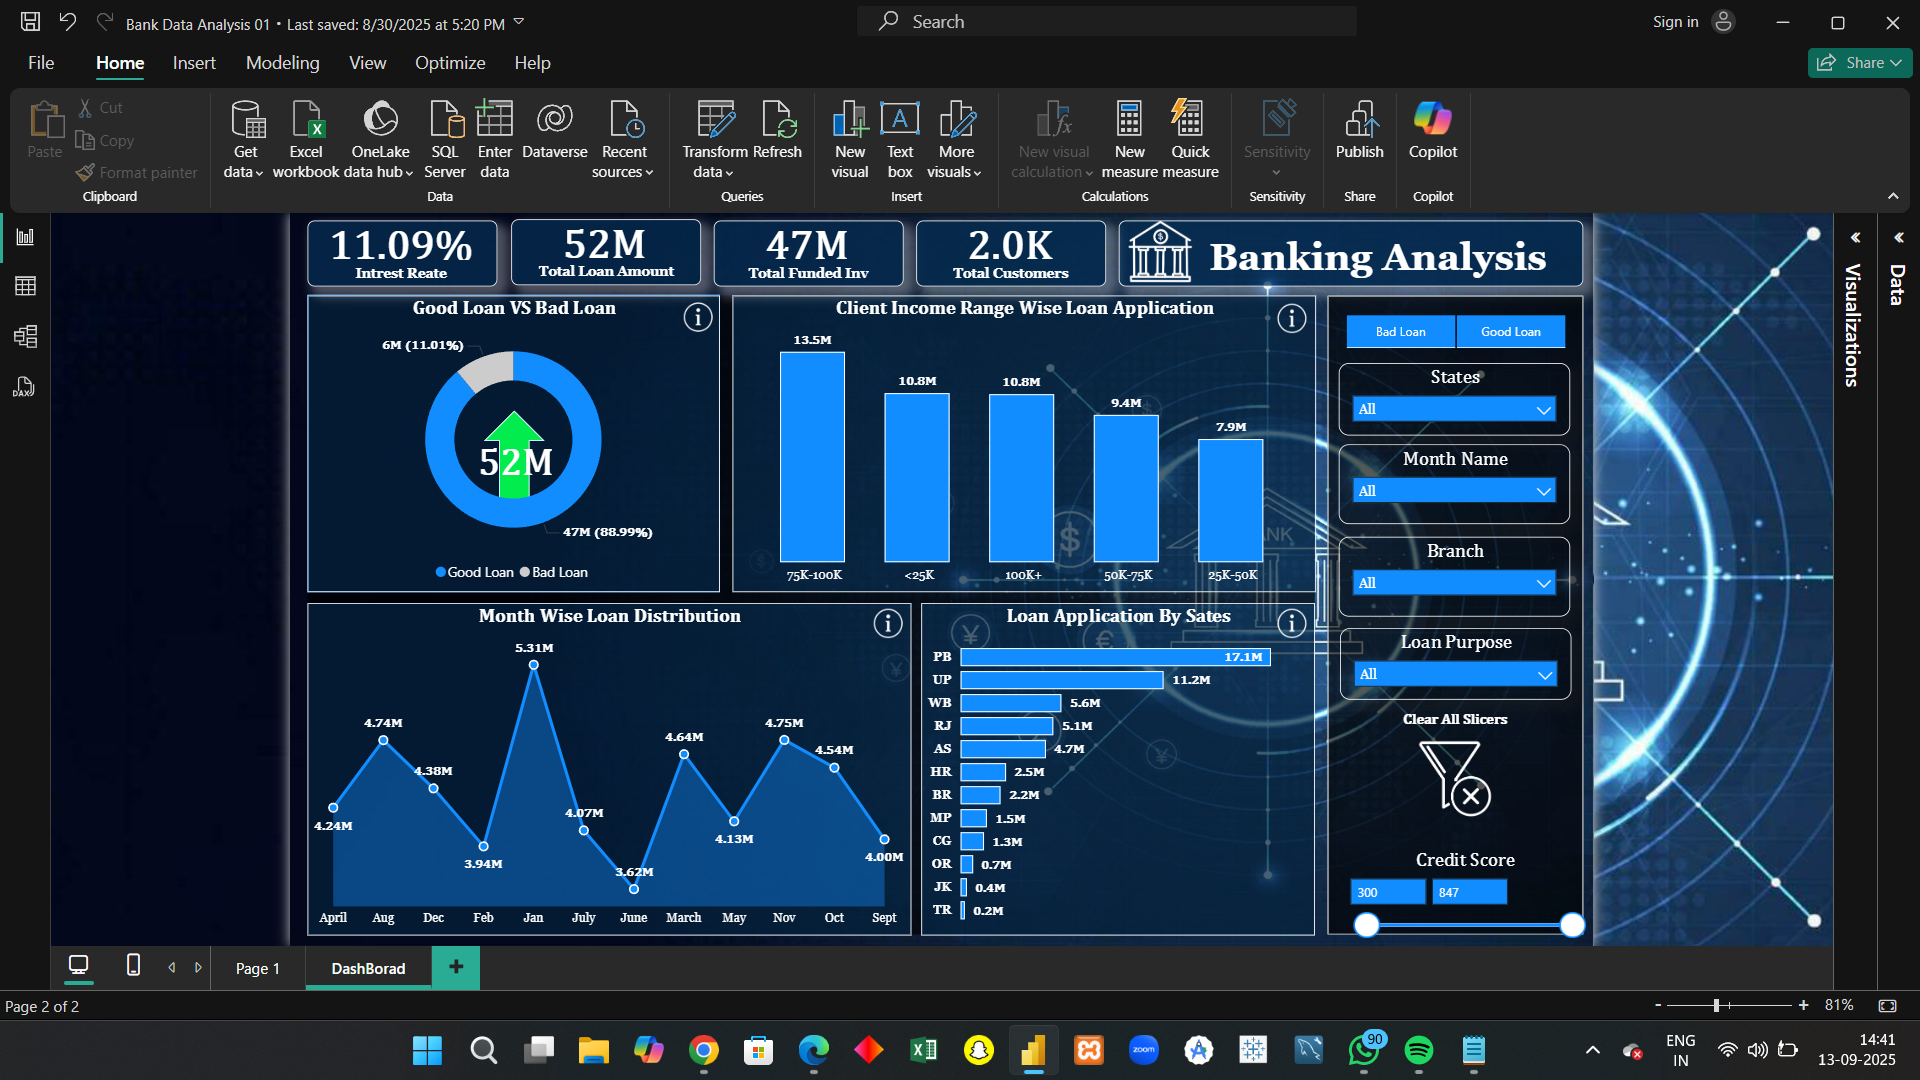

What the dashboard file says about the page in this screenshot:
{"tool":"powerbi","page":{"name":"DashBorad","canvas":[1280,720],"ordinal":1},"visuals":[{"type":"shape","box":[813.5,7.2,456.2,65],"z":0},{"type":"shape","box":[190,193.8,60,111.2],"z":0,"group":"g1"},{"type":"shape","box":[17.5,80,405,292.5],"z":1000,"group":"g1"},{"type":"shape","box":[17.5,81.2,988.8,627.5],"z":1000},{"type":"group","id":"g1","title":"Good Loan Chart","box":[17.5,80,405,292.5],"z":2000},{"type":"donutChart","title":"Good Loan VS Bad Loan ","fields":{"Category":["Table1.Good Vs Bad Loan"],"Y":["Sum(Table1.Loan Amount)"]},"box":[17.5,81.2,405,291.2],"z":2000,"group":"g1"},{"type":"card","fields":{"Values":["Sum(Table1.Loan Amount)"]},"box":[155,202.5,135,81.2],"z":3000,"group":"g1"},{"type":"areaChart","title":"Month Wise Loan Distribution","fields":{"Category":["Table1.Month Name"],"Y":["Sum(Table1.Loan Amount)"]},"box":[17.5,382.5,592.5,326.2],"z":3000},{"type":"barChart","title":"Loan Application  By Sates","fields":{"Category":["Table1.State Abbr"],"Y":["Sum(Table1.Loan Amount)"]},"box":[620,382.5,386.2,326.2],"z":4000},{"type":"columnChart","title":" Client Income Range Wise Loan Application","fields":{"Category":["Table1.Client Income Range"],"Y":["Sum(Table1.Loan Amount)"]},"box":[433.8,81.2,572.5,291.2],"z":5000},{"type":"shape","box":[1018.8,81.2,251.2,627.5],"z":6000},{"type":"slicer","title":"Month Name","fields":{"Values":["Table1.Month Name"]},"box":[1030,227.5,227.5,78.8],"z":7000},{"type":"slicer","title":"States","fields":{"Values":["Table1.State Abbr"]},"box":[1030,147.5,227.5,71.2],"z":8000},{"type":"slicer","fields":{"Values":["Table1.Good Vs Bad Loan"]},"box":[1011.2,93.8,265,46.2],"z":9000},{"type":"slicer","title":"Loan Purpose","fields":{"Values":["Table1.Purpose Category"]},"box":[1031.2,407.5,227.5,70],"z":10000},{"type":"slicer","title":"Branch","fields":{"Values":["Table1.Branch Name_x"]},"box":[1030,317.5,227.5,78.8],"z":11000},{"type":"slicer","title":"Credit Score","fields":{"Values":["Dim Client.Credit Score"]},"box":[1028.2,624.5,251.5,95.7],"z":12000},{"type":"shape","box":[17.5,7.5,186.2,65],"z":13000},{"type":"card","fields":{"Values":["Avg(Table1.Int Rate)"]},"box":[15,6.2,188.8,45],"z":14000},{"type":"textbox","box":[20,43.8,178.8,40],"z":15000},{"type":"shape","box":[217.3,6.2,186.2,65],"z":16000},{"type":"card","fields":{"Values":["Sum(Table1.Loan Amount)"]},"box":[214.8,5,188.8,45],"z":17000},{"type":"textbox","box":[239.5,42.5,163.8,40],"z":18000},{"type":"shape","box":[416,7.5,186.2,65],"z":19000},{"type":"card","fields":{"Values":["Sum(Table1.Funded Amount Inv)"]},"box":[413.5,6.2,188.8,45],"z":20000},{"type":"textbox","box":[427.5,43.8,163.8,40],"z":21000},{"type":"shape","box":[614.7,7.5,186.2,65],"z":22000},{"type":"card","fields":{"Values":["CountNonNull(Table1.Account ID)"]},"box":[612.2,6.2,188.8,45],"z":23000},{"type":"textbox","box":[626.1,43.8,163.8,40],"z":24000},{"type":"image","box":[813.5,0.9,80,72.5],"z":25000},{"type":"textbox","box":[873.5,17.2,388.8,62.5],"z":26000},{"type":"image","title":"Clear All Slicers","box":[1077.5,490,132.5,112.5],"z":27000},{"type":"image","title":"i for Good Loan","box":[378.8,82.5,43.8,40],"z":28000},{"type":"image","title":"i for income","box":[962.5,83.8,43.8,40],"z":29000},{"type":"image","title":"i for staes","box":[962.5,382.5,43.8,40],"z":30000},{"type":"image","title":"i for Month","box":[566.2,382.5,43.8,40],"z":31000}]}

Visuals, with their boxes on the page's 1280x720 design canvas (x1, y1, x2, y2). These are canvas units, not pixel positions in the 1920x1080 screenshot, which may show the page scaled, cropped or inside an application window:
shape: [814, 7, 1270, 72]
shape: [190, 194, 250, 305]
shape: [18, 80, 422, 372]
shape: [18, 81, 1006, 709]
"Good Loan Chart" group: [18, 80, 422, 372]
"Good Loan VS Bad Loan " donutChart: [18, 81, 422, 372]
card - Sum(Table1.Loan Amount): [155, 202, 290, 284]
"Month Wise Loan Distribution" areaChart: [18, 382, 610, 709]
"Loan Application  By Sates" barChart: [620, 382, 1006, 709]
" Client Income Range Wise Loan Application" columnChart: [434, 81, 1006, 372]
shape: [1019, 81, 1270, 709]
"Month Name" slicer: [1030, 228, 1258, 306]
"States" slicer: [1030, 148, 1258, 219]
slicer - Table1.Good Vs Bad Loan: [1011, 94, 1276, 140]
"Loan Purpose" slicer: [1031, 408, 1259, 478]
"Branch" slicer: [1030, 318, 1258, 396]
"Credit Score" slicer: [1028, 624, 1280, 720]
shape: [18, 8, 204, 72]
card - Avg(Table1.Int Rate): [15, 6, 204, 51]
textbox: [20, 44, 199, 84]
shape: [217, 6, 404, 71]
card - Sum(Table1.Loan Amount): [215, 5, 404, 50]
textbox: [240, 42, 403, 82]
shape: [416, 8, 602, 72]
card - Sum(Table1.Funded Amount Inv): [414, 6, 602, 51]
textbox: [428, 44, 591, 84]
shape: [615, 8, 801, 72]
card - CountNonNull(Table1.Account ID): [612, 6, 801, 51]
textbox: [626, 44, 790, 84]
image: [814, 1, 894, 73]
textbox: [874, 17, 1262, 80]
"Clear All Slicers" image: [1078, 490, 1210, 602]
"i for Good Loan" image: [379, 82, 423, 122]
"i for income" image: [962, 84, 1006, 124]
"i for staes" image: [962, 382, 1006, 422]
"i for Month" image: [566, 382, 610, 422]
